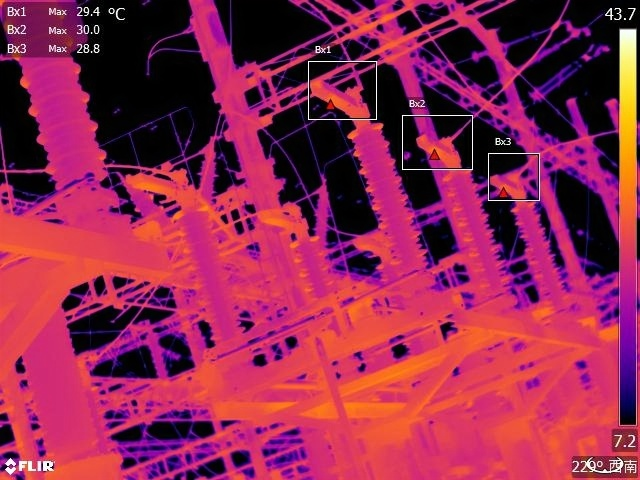post insulator: (3, 1, 116, 178), (350, 118, 429, 276), (181, 205, 245, 341), (448, 165, 511, 292), (514, 189, 565, 302), (293, 238, 334, 304), (126, 187, 180, 229), (195, 145, 218, 202), (315, 188, 336, 236)
switch: (122, 158, 216, 216), (306, 72, 376, 128), (402, 120, 463, 170), (257, 201, 315, 241), (492, 161, 533, 203)
